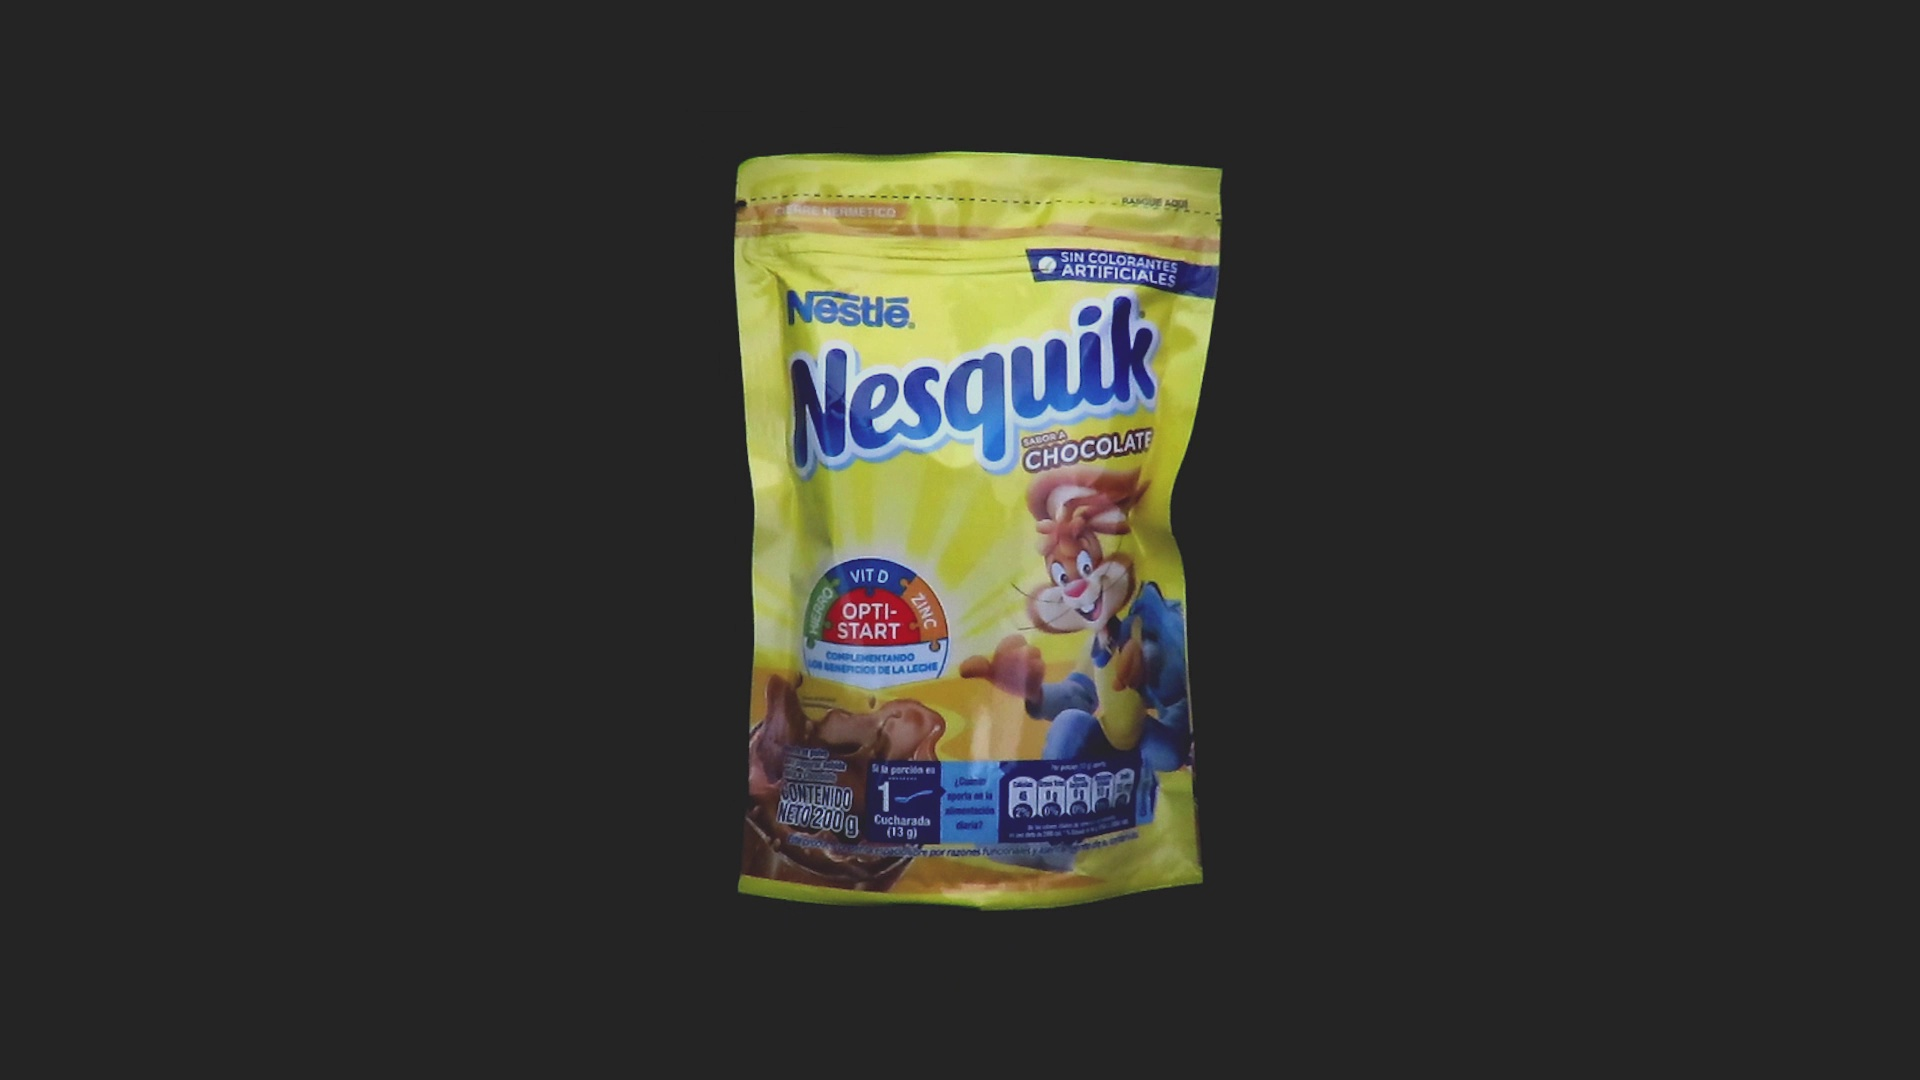COL0170303DYP20000: (729, 146, 1229, 916)
